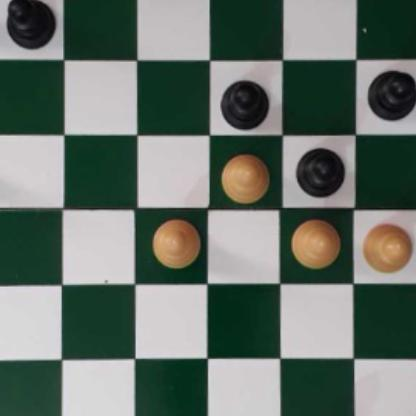black-pawn: (219, 74, 271, 128), (296, 143, 345, 197), (367, 66, 416, 120), (5, 0, 54, 48)
white-pawn: (360, 219, 413, 274), (217, 151, 273, 203), (290, 216, 340, 268), (149, 217, 200, 267)
